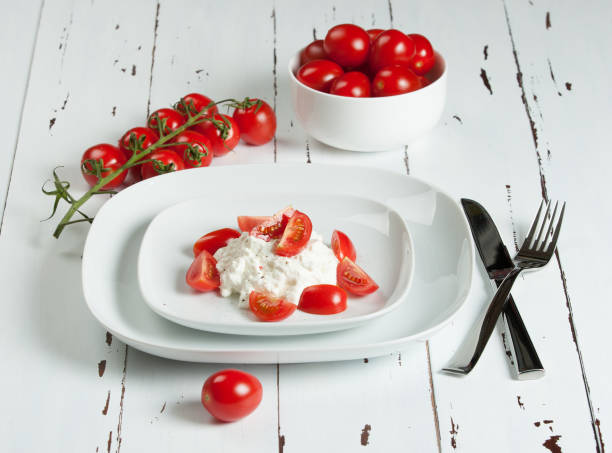knife: (457, 195, 546, 384)
